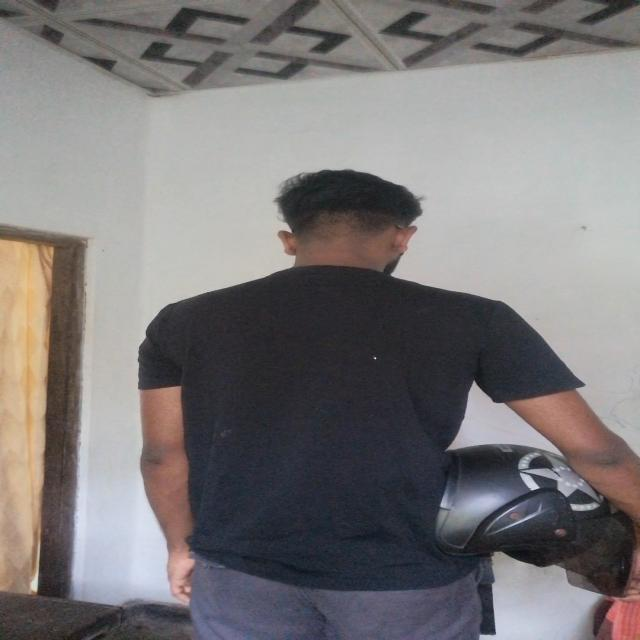Person: (139, 161, 639, 640)
